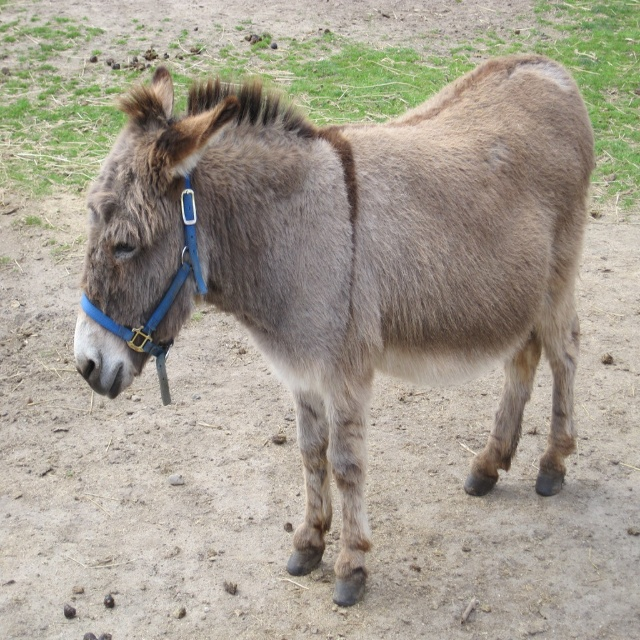Mule: (74, 63, 591, 607)
